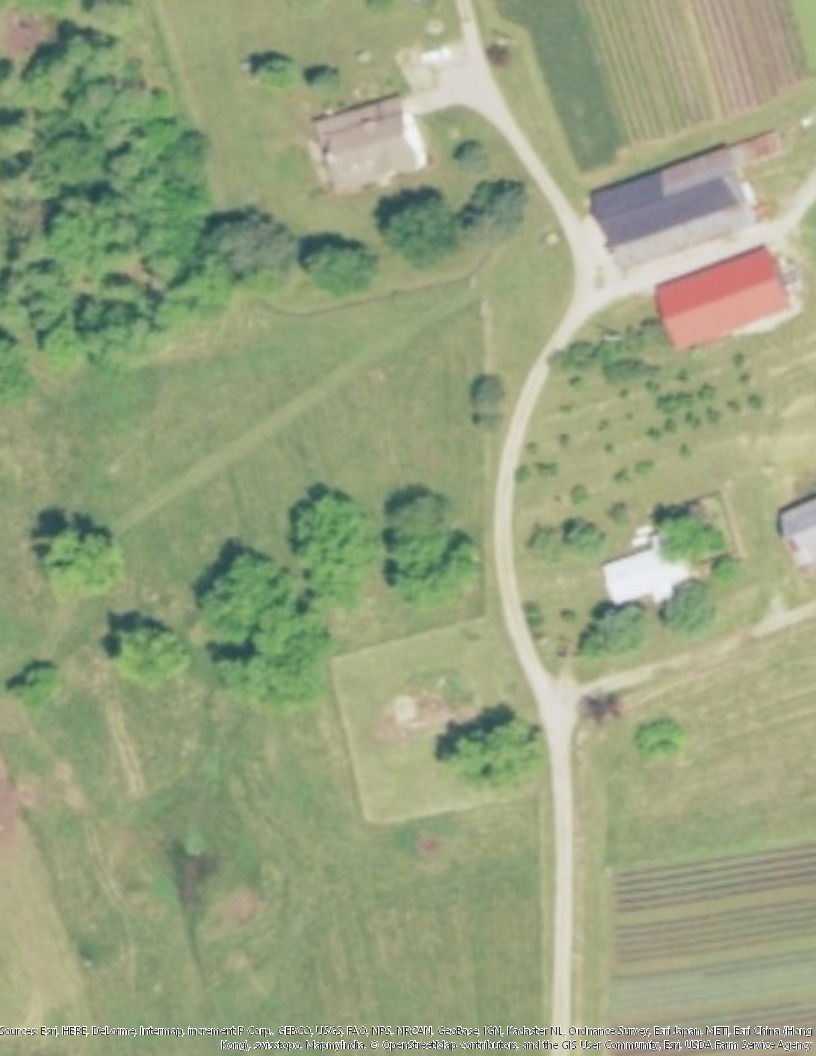cafo: (581, 135, 769, 274), (643, 240, 804, 357)
